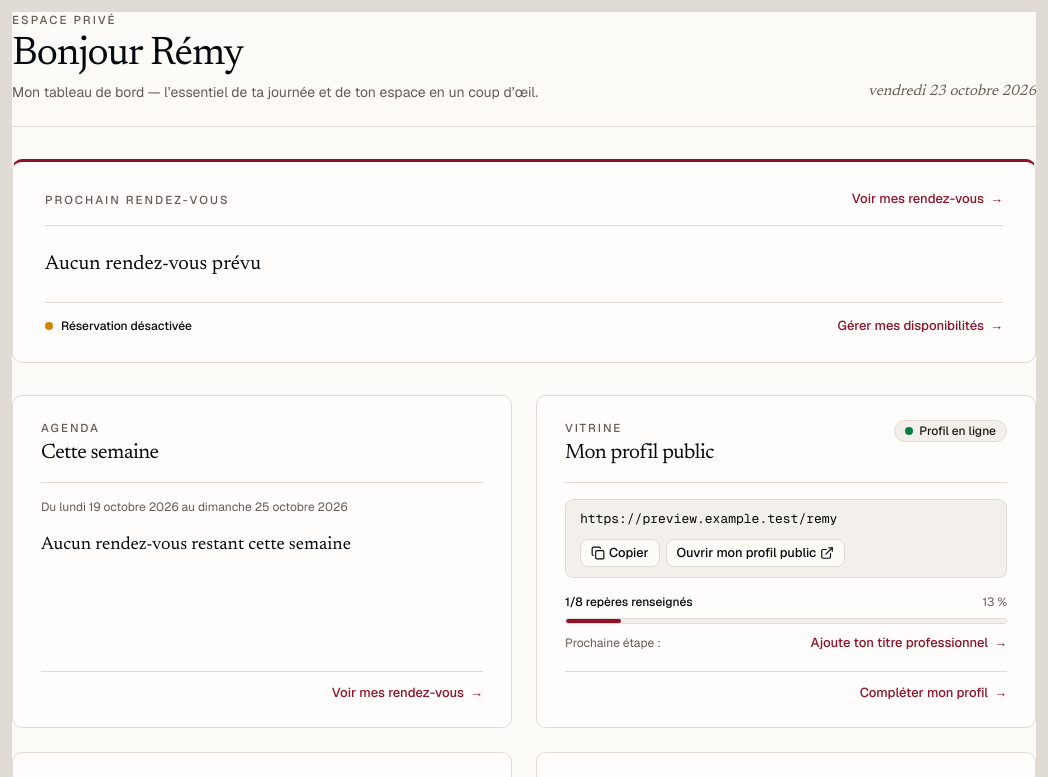
DashboardView › copie l'adresse absolue et confirme Copié
The image size is (1048, 777).
Click the button "Copier". click: (620, 553)
box: [580,539,660,567]
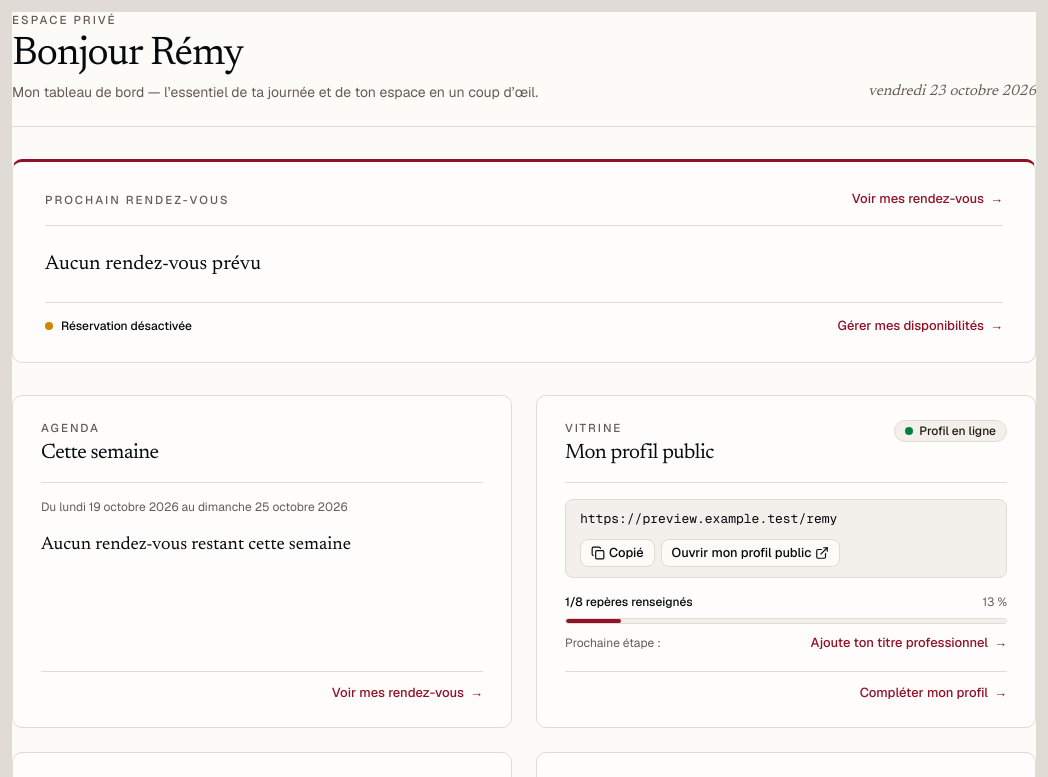
Now the button "Copié" is shown, box [580,539,655,567]
